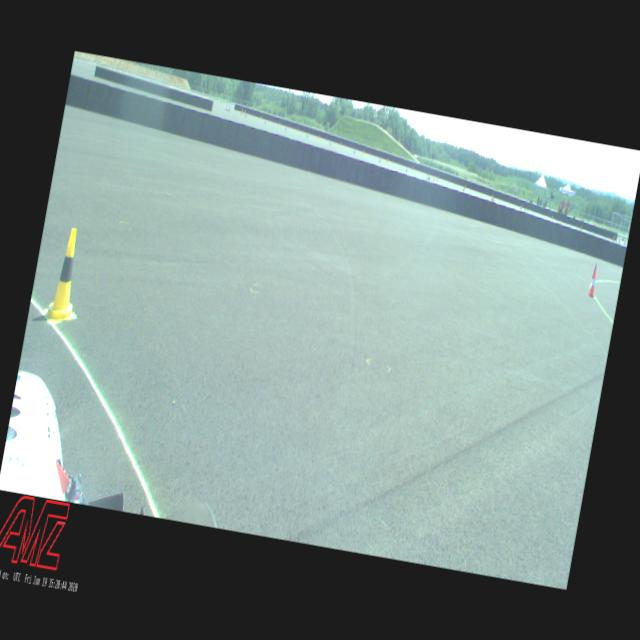orange_cone: (588, 270, 598, 298)
yellow_cone: (42, 225, 86, 322)
